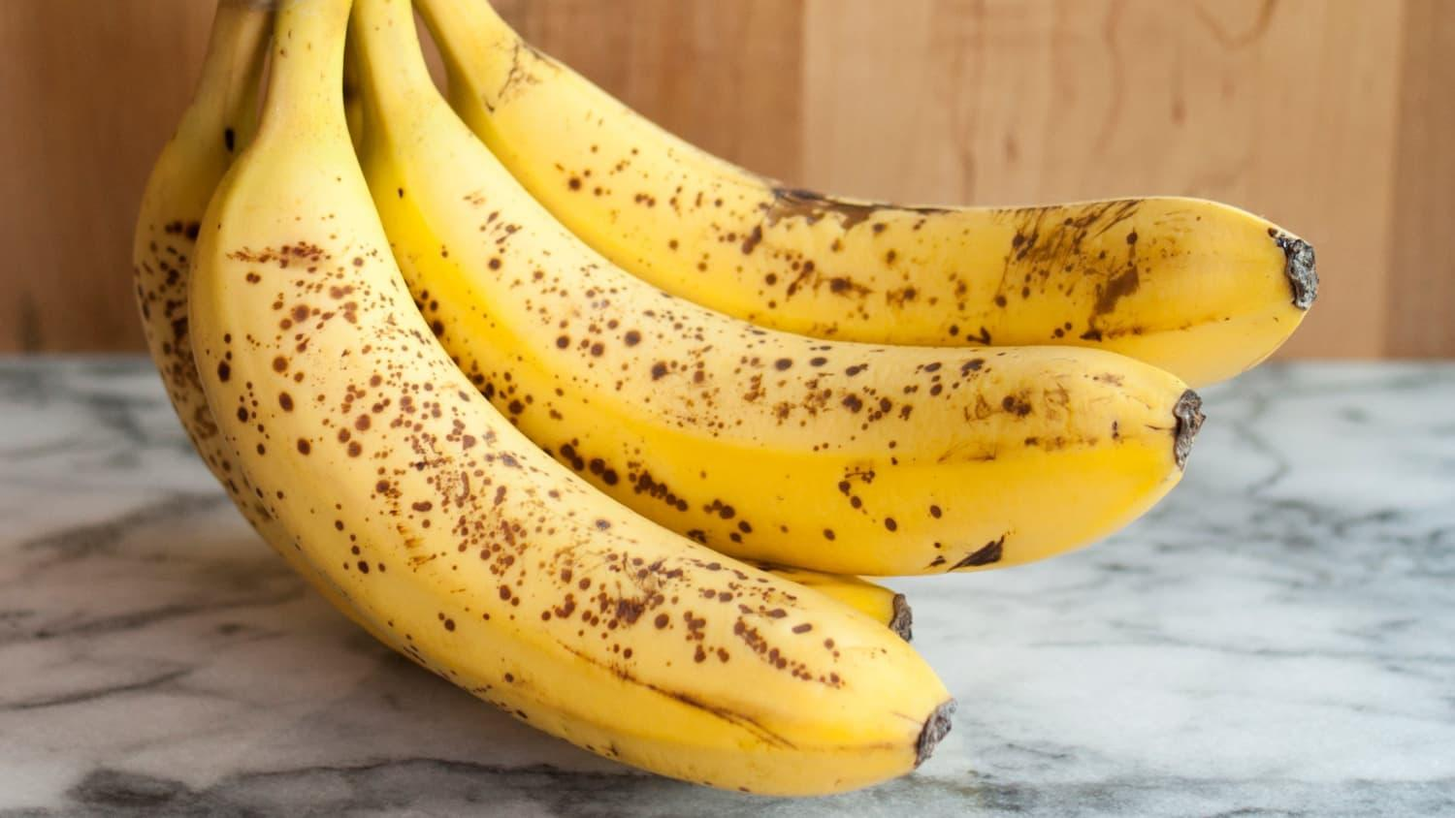Banana Ripe: (187, 126, 1344, 803), (388, 148, 1224, 579), (159, 166, 1386, 344)
